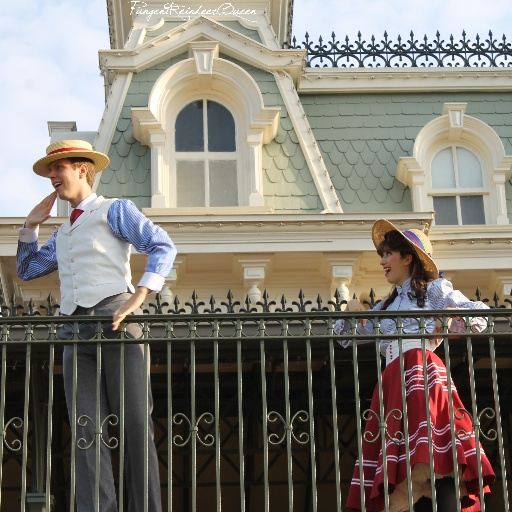hand: (101, 280, 152, 333), (25, 191, 57, 226), (428, 306, 454, 347), (347, 297, 367, 327)
